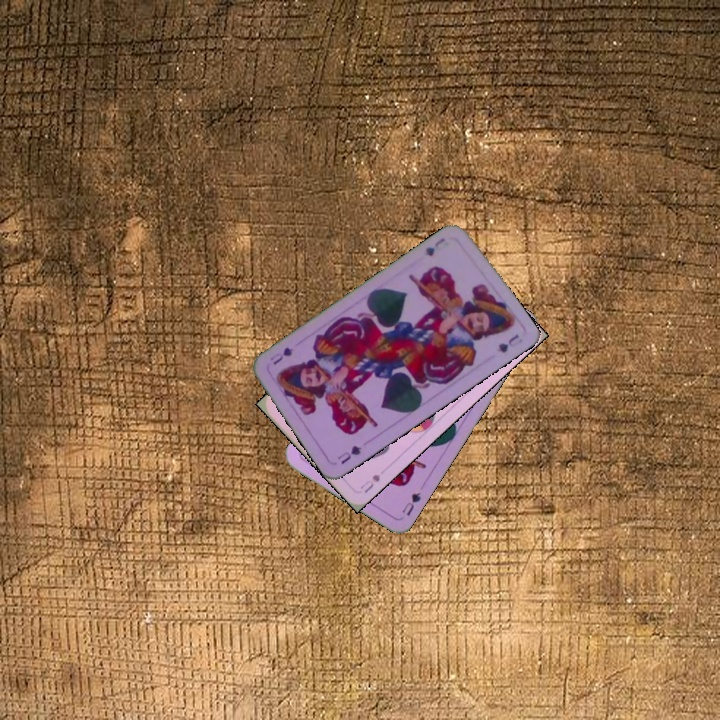GU: (398, 488, 424, 519), (333, 441, 364, 467), (421, 234, 447, 259)
SU: (356, 470, 383, 496)
